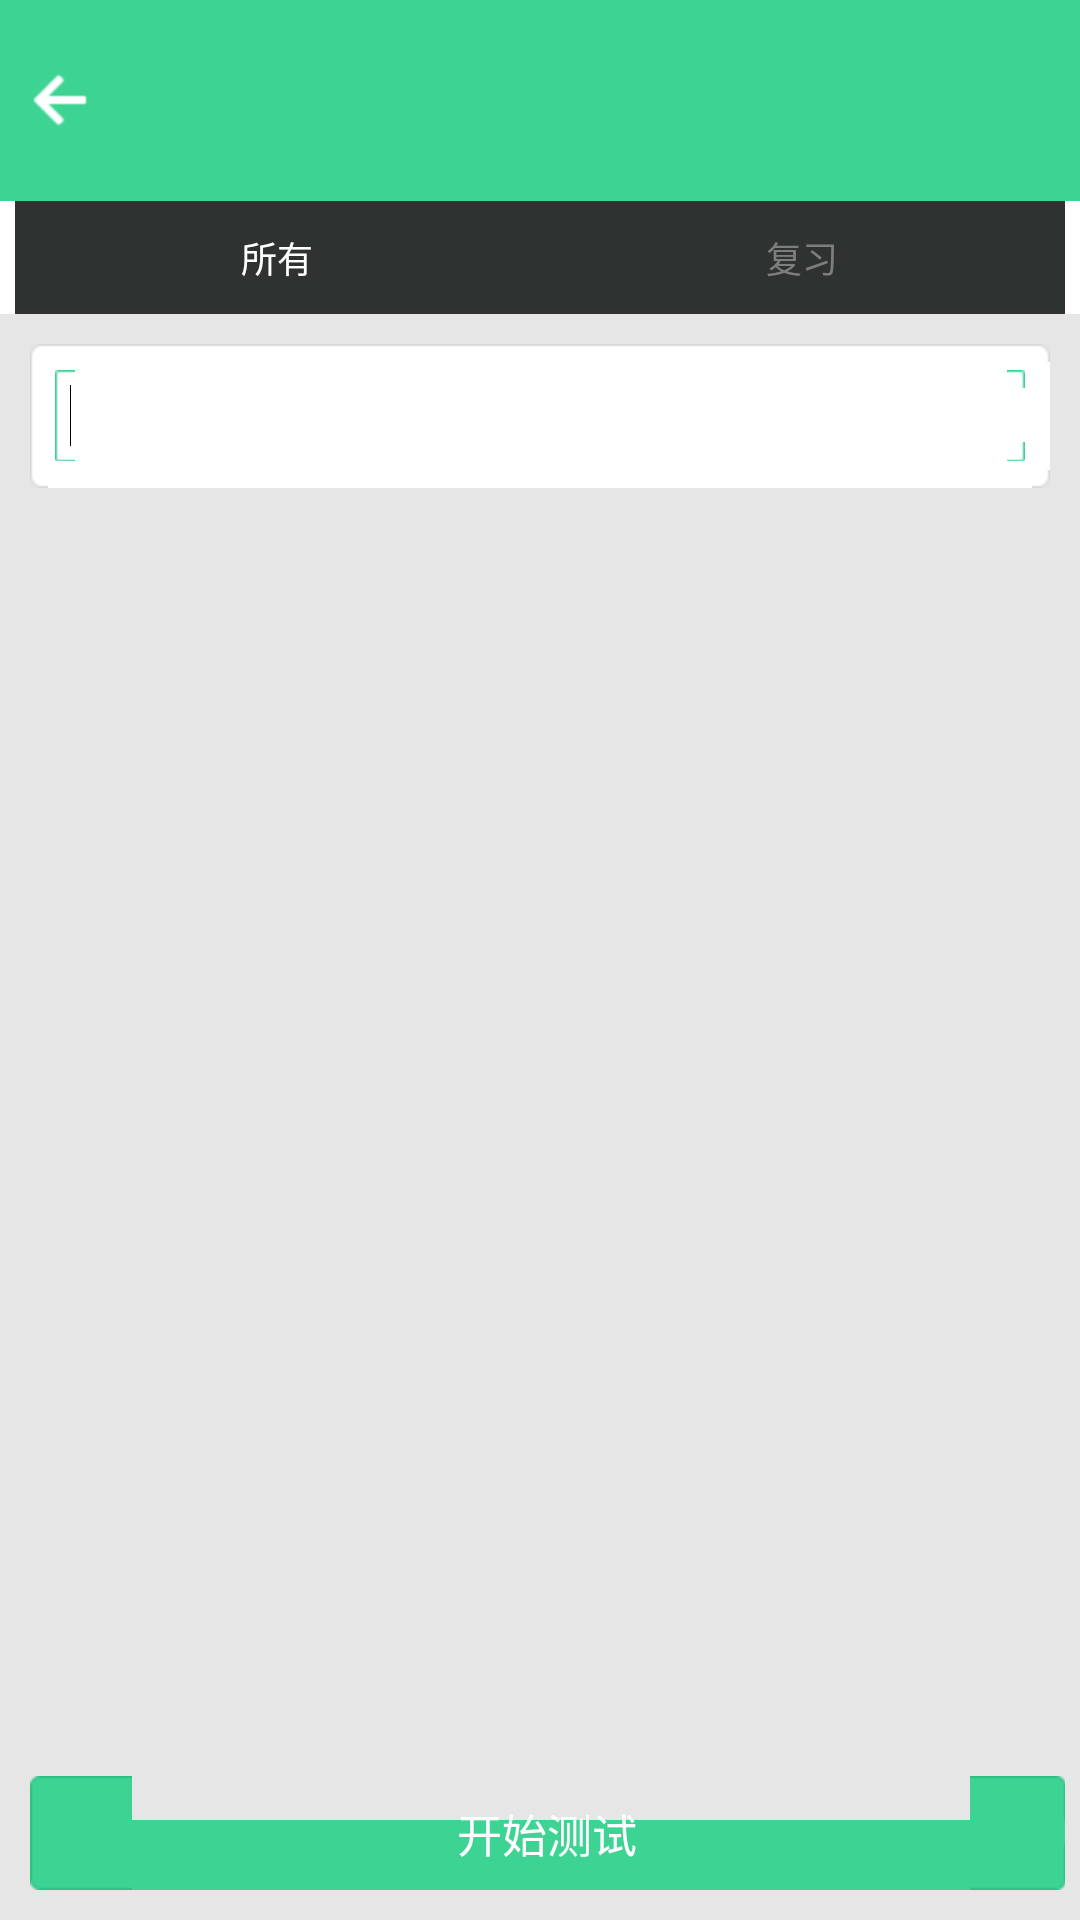

Named icons in this screenshot (1080 × 1920) and their bounding boxes, (x1, y1, x2, y2):
page main back: (33, 74, 87, 126)
